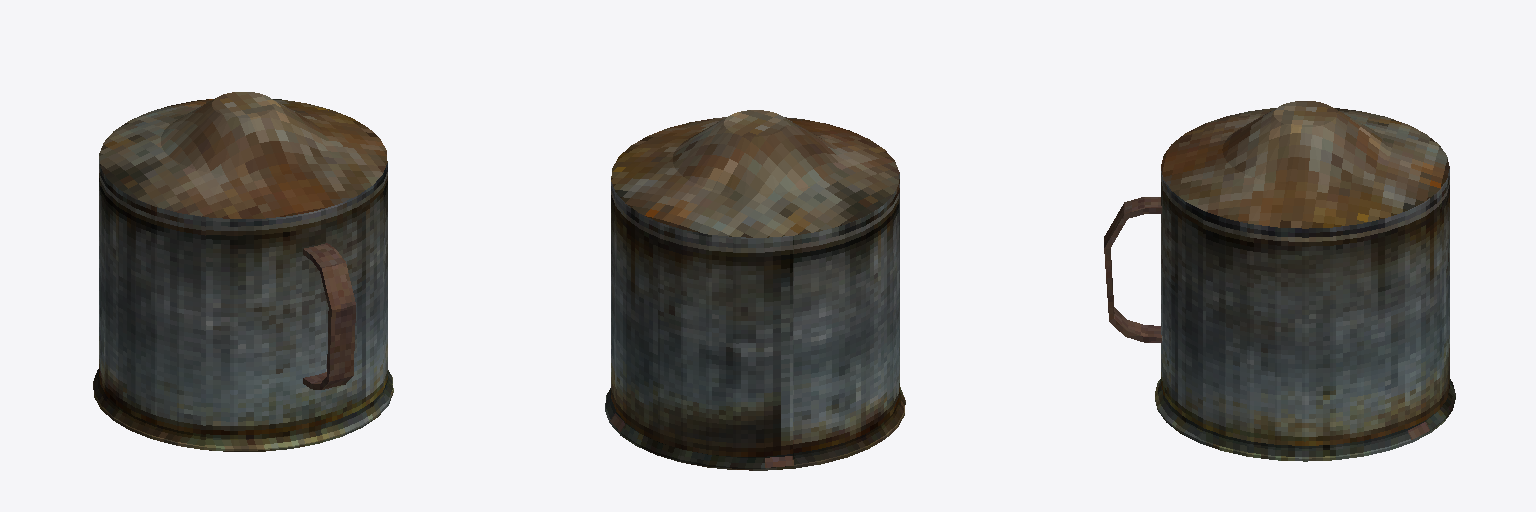
The picture shows the model from 3 angles: view 1: azimuth 30°, elevation 25°; view 2: azimuth 150°, elevation 25°; view 3: azimuth 270°, elevation 25°; orthographic projection.
Visible parts, largest first — view 1: Cylinder; view 2: Cylinder; view 3: Cylinder.
Part boxes in pixels (x1,y1,x2,y2): Cylinder: (93,92,393,451); Cylinder: (605,110,905,470); Cylinder: (1104,101,1455,461).
Size of the model in its own units: 2.08 by 2.17 by 2.43.
1 materials, 1 textured.